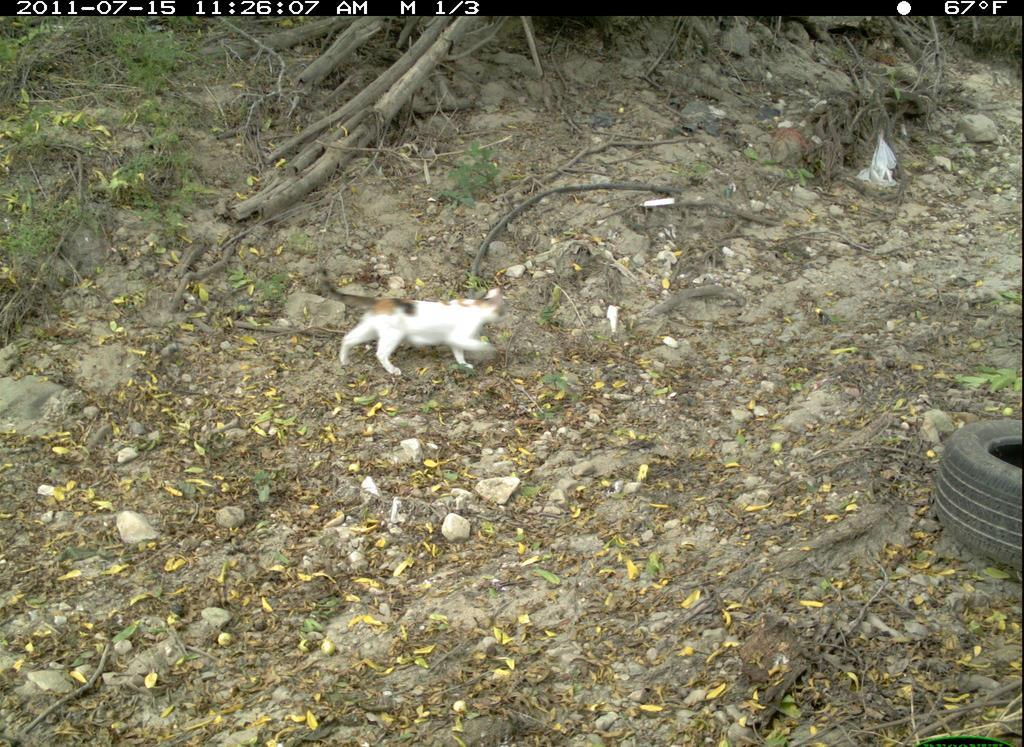cat: (323, 278, 523, 399)
